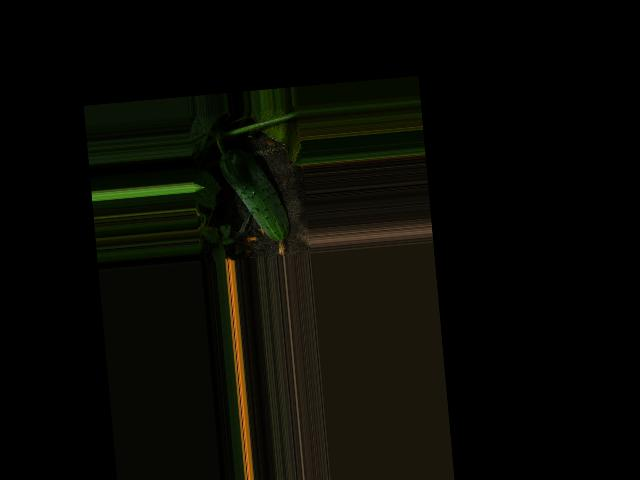cucumber: (218, 145, 292, 260)
